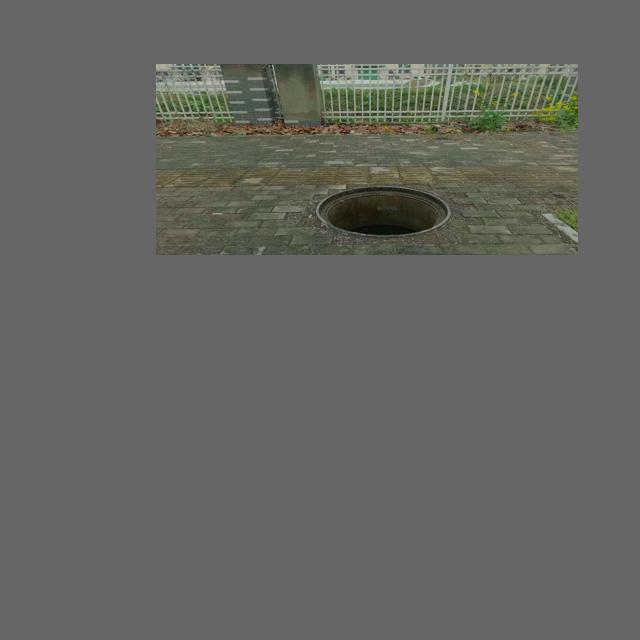lose: (316, 186, 451, 237)
